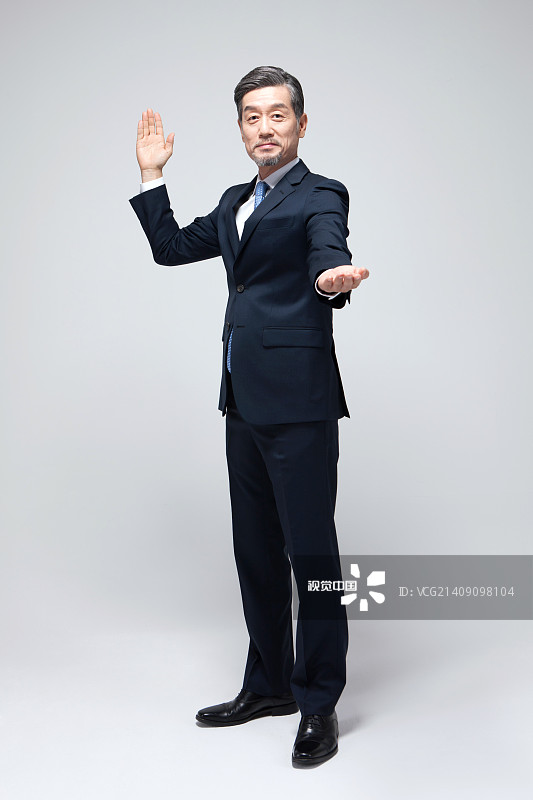no-phone: (120, 91, 184, 175), (305, 252, 378, 311)
